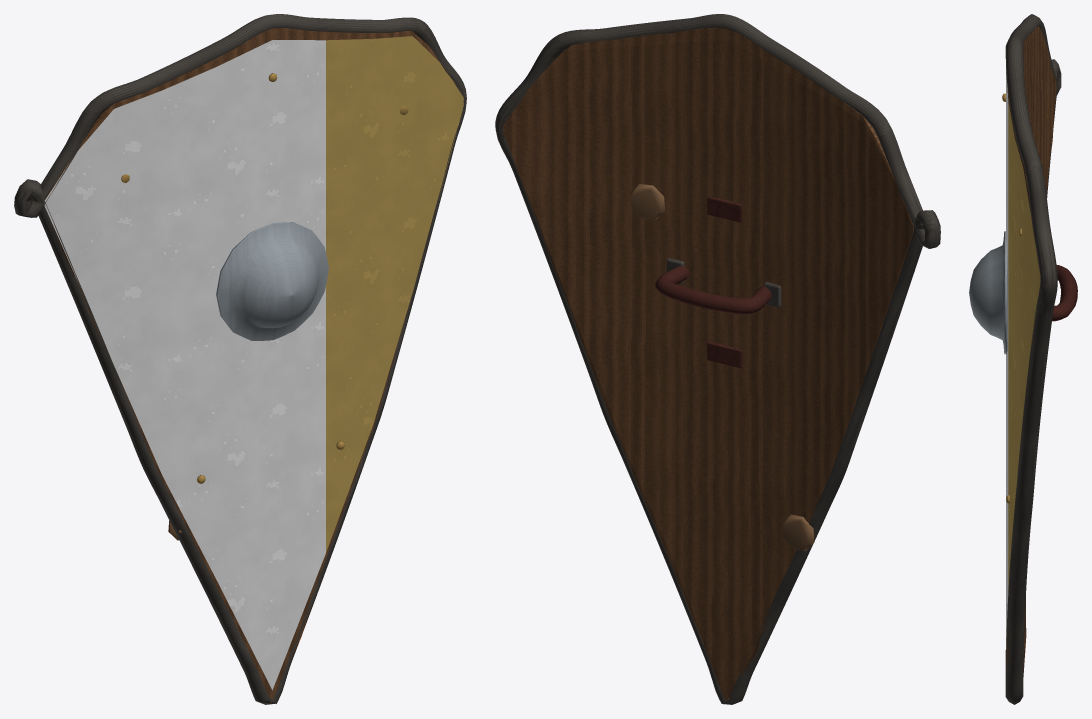
File: kite-shield.lod1.glb
3 renders of one model, left to right at view 1: azimuth 30°, elevation 25°; view 2: azimuth 150°, elevation 25°; view 3: azimuth 270°, elevation 25°, orthographic. The views are drawn at different scales.
Parts seen in each view (by area): view 1: ceramic / ceramic composite panel, enamel / heraldic enamel, iron / hammer-scaled wrought iron, steel / forged blade steel, wood / oiled hardwood; view 2: wood / oiled hardwood, iron / hammer-scaled wrought iron, leather / oiled leather wrap, drawbore peg; view 3: iron / hammer-scaled wrought iron, enamel / heraldic enamel, wood / oiled hardwood, steel / forged blade steel, ceramic / ceramic composite panel, leather / oiled leather wrap.
Part boxes in pixels (<box>): ceramic / ceramic composite panel: <box>44,40,325,690</box>; enamel / heraldic enamel: <box>326,36,463,552</box>; iron / hammer-scaled wrought iron: <box>14,14,466,704</box>; steel / forged blade steel: <box>216,222,328,340</box>; wood / oiled hardwood: <box>45,27,458,702</box>; wood / oiled hardwood: <box>503,27,913,700</box>; iron / hammer-scaled wrought iron: <box>495,14,940,704</box>; leather / oiled leather wrap: <box>655,196,772,368</box>; drawbore peg: <box>630,184,814,551</box>; iron / hammer-scaled wrought iron: <box>1005,14,1061,704</box>; enamel / heraldic enamel: <box>1008,102,1040,588</box>; wood / oiled hardwood: <box>1007,26,1056,676</box>; steel / forged blade steel: <box>969,231,1007,354</box>; ceramic / ceramic composite panel: <box>1006,68,1008,649</box>; leather / oiled leather wrap: <box>1052,265,1077,321</box>.
Bounding box in the file's own units: 0.6433 × 0.948 × 0.1416.
Materials: 9 (7 with a texture image).
